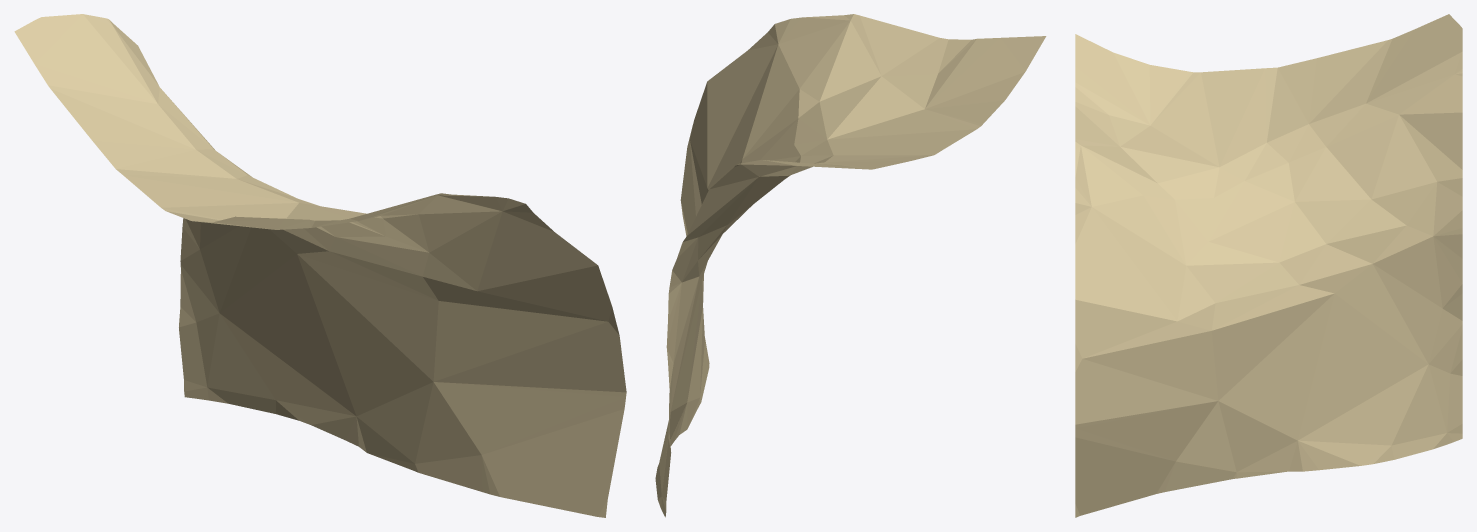
Rendered from bisect-8-3-2.gltf.
3 views of the same model, side by side, from view 1: azimuth 30°, elevation 25°; view 2: azimuth 150°, elevation 25°; view 3: azimuth 270°, elevation 25° (orthographic). The views are drawn at different scales.
Parts seen in each view (by area): view 1: bisect-8-3-2; view 2: bisect-8-3-2; view 3: bisect-8-3-2.
Boxes of the visible parts, left/top/right/bottom form: bisect-8-3-2: left=14, top=14, right=626, bottom=517; bisect-8-3-2: left=655, top=14, right=1046, bottom=517; bisect-8-3-2: left=1075, top=14, right=1462, bottom=517.
Bounding box in the file's own units: 19.73 × 20 × 20.
